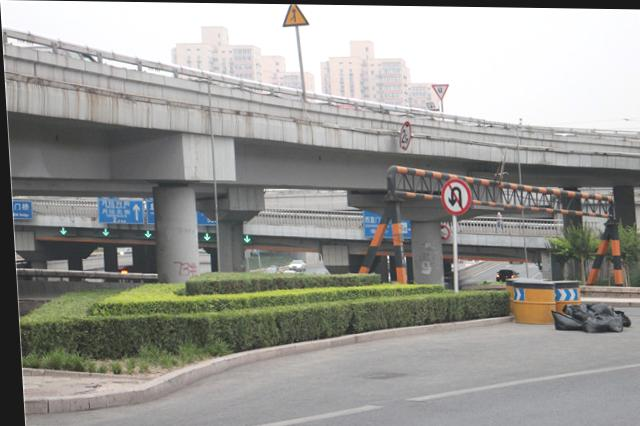not_u_turn_left: (439, 175, 468, 213)
